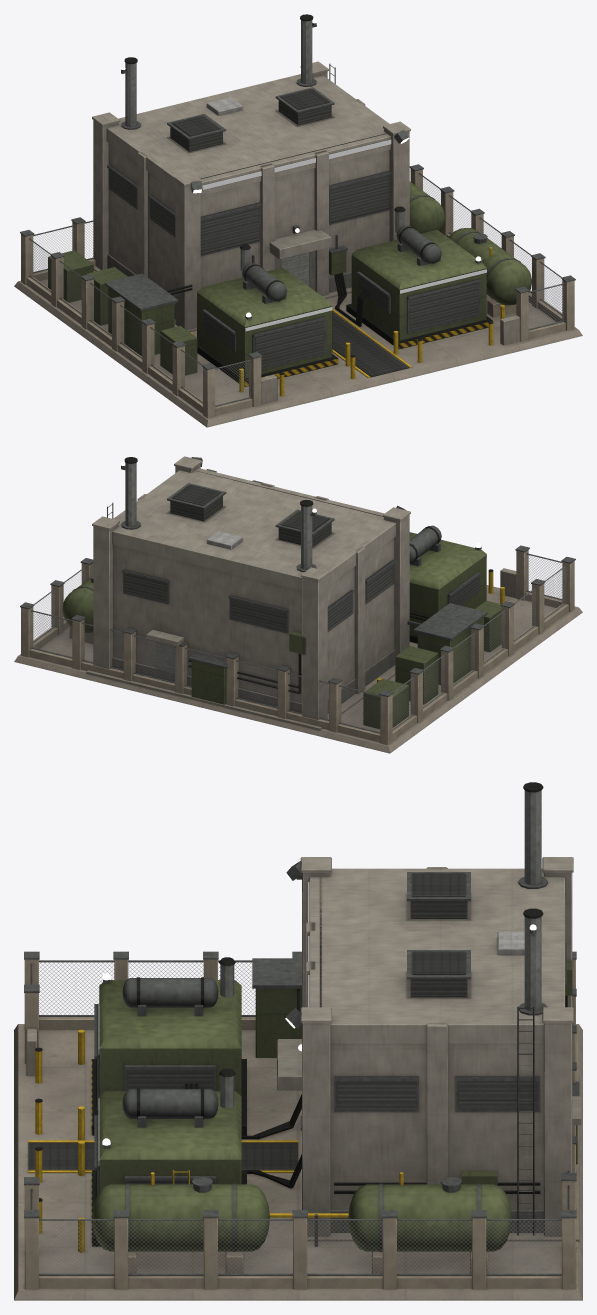
File: power_plant.glb
3 renders of one model, top to bottom at view 1: azimuth 30°, elevation 25°; view 2: azimuth 150°, elevation 25°; view 3: azimuth 270°, elevation 25°, orthographic. The views are drawn at different scales.
Visible parts, largest first — view 1: Building, Props; view 2: Building, Props; view 3: Building, Props.
Part boxes in pixels (x1,y1,x2,y2): Building: [14, 14, 582, 427]; Props: [20, 164, 575, 418]; Building: [14, 456, 582, 753]; Props: [20, 469, 575, 745]; Building: [14, 782, 582, 1300]; Props: [24, 951, 576, 1289].
Size of the model in its own units: 18 by 9.8 by 16.
10 materials, 2 textured.
